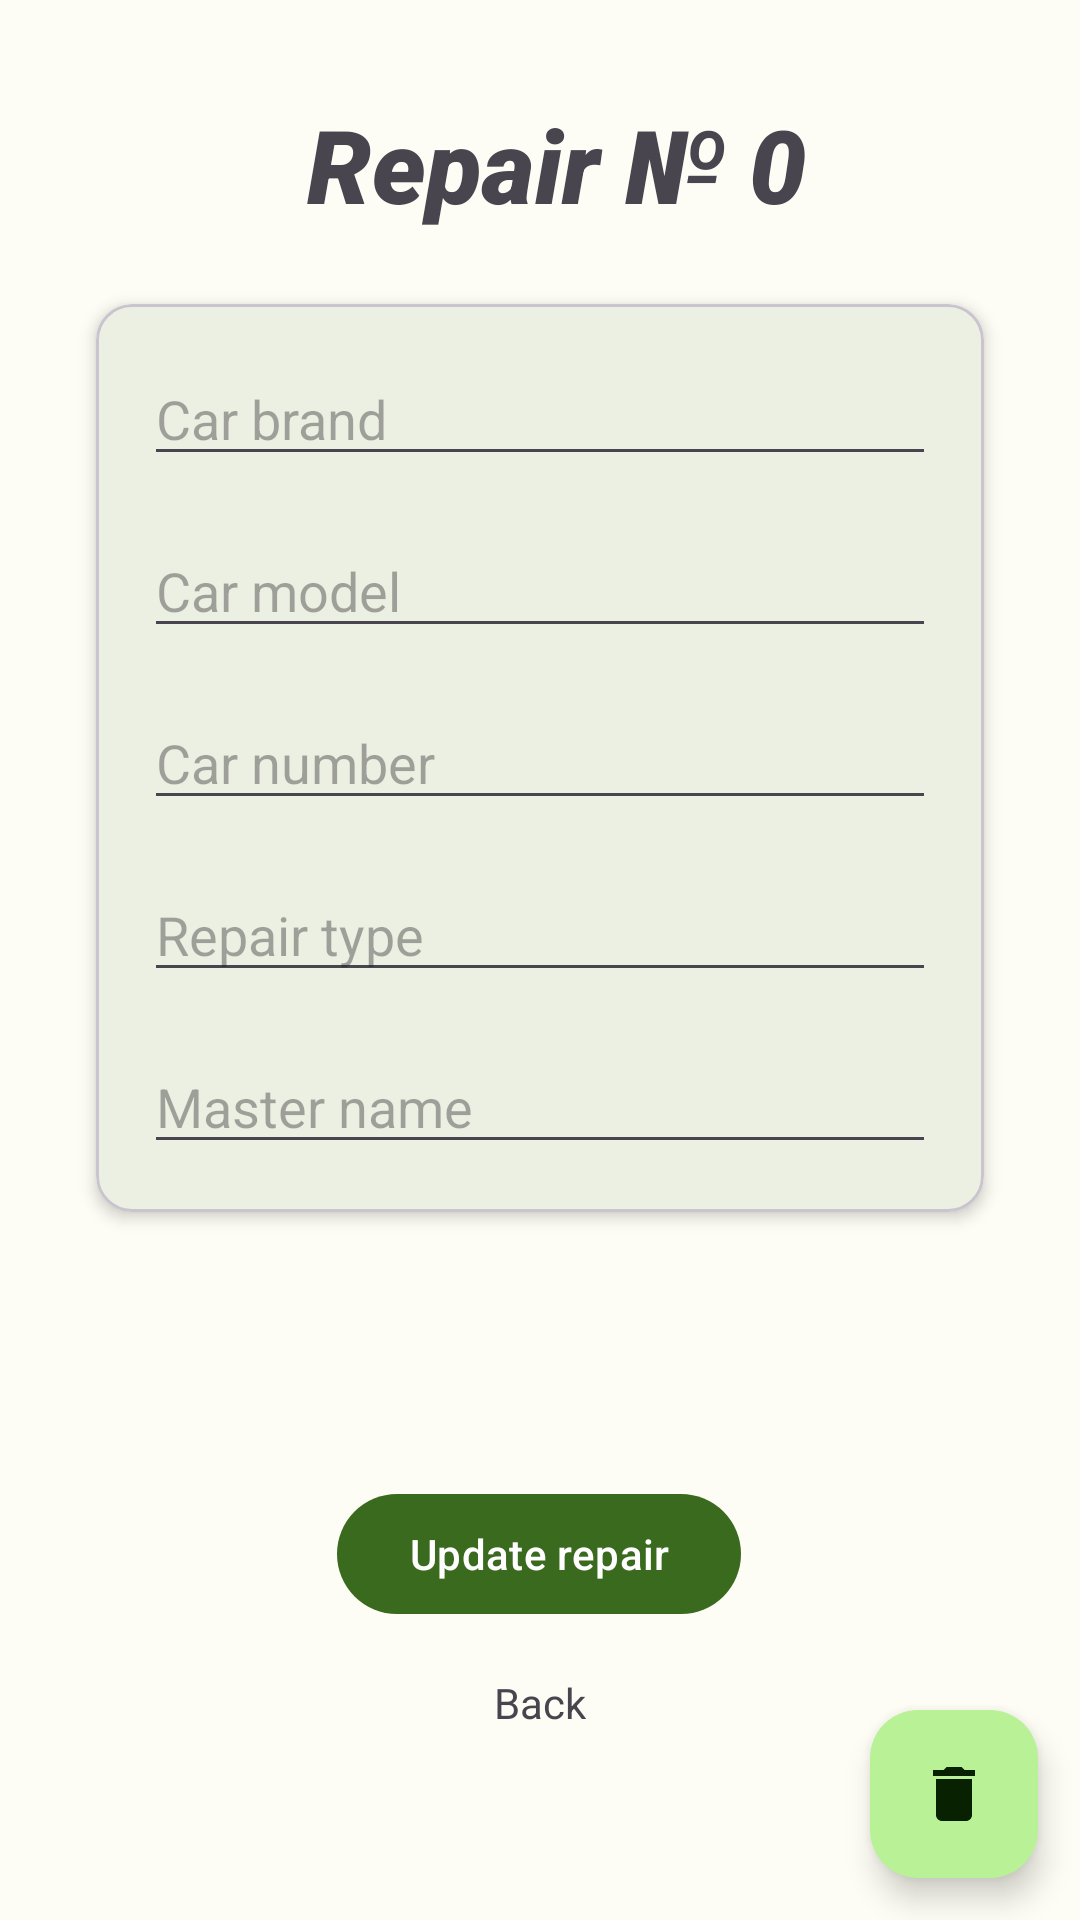

Icon bounding boxes for this 1080*1920 phone screenshot, format region(x1, y1, x2, y2):
delete: region(870, 1710, 1038, 1878)
